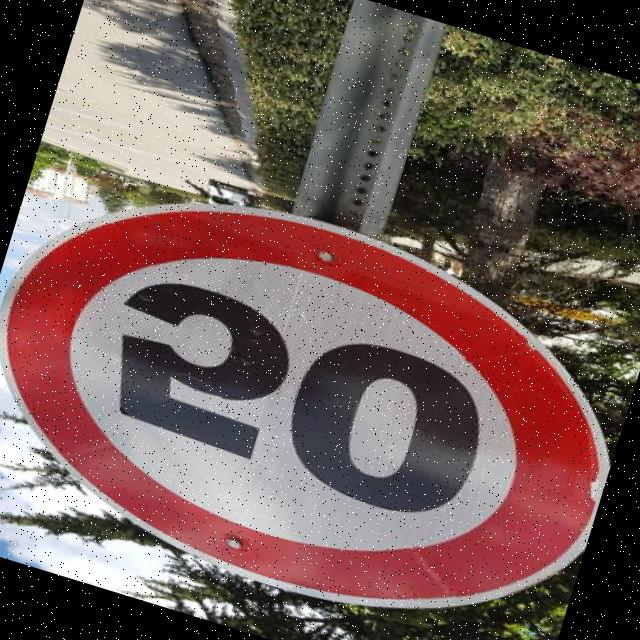speed_limit_50: (0, 119, 640, 640)
